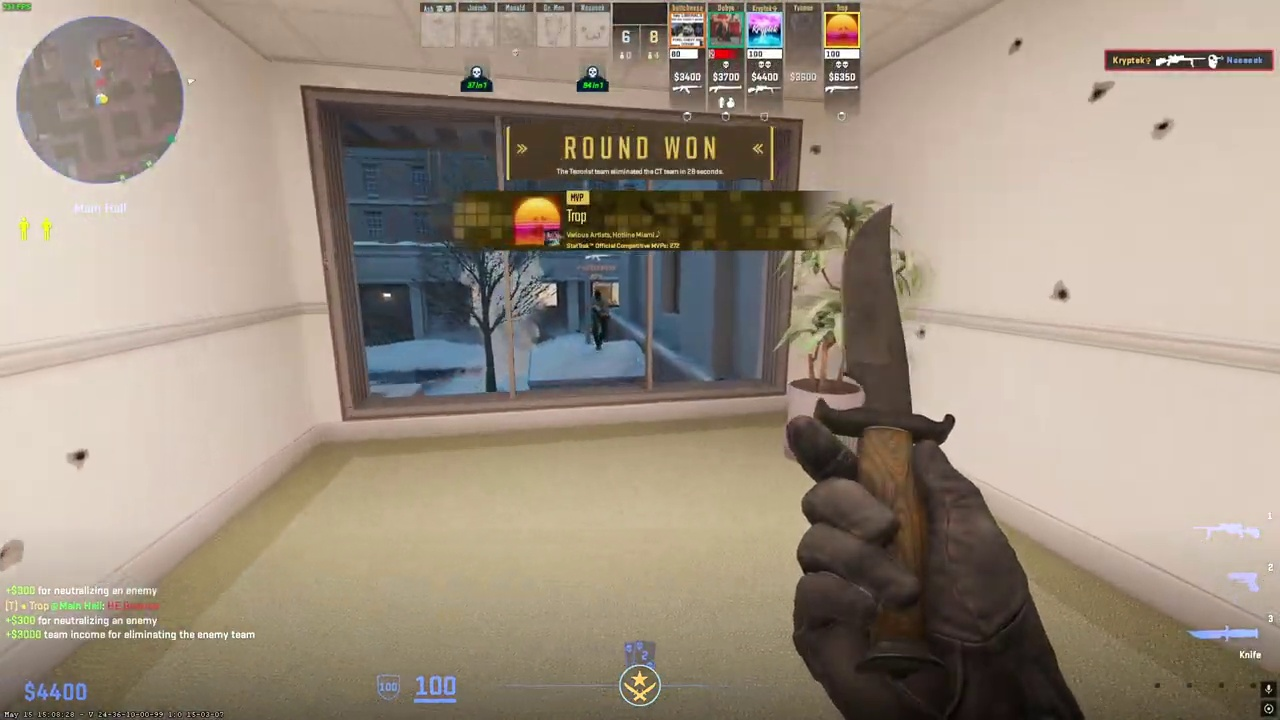Terrorist: (587, 290, 609, 350)
